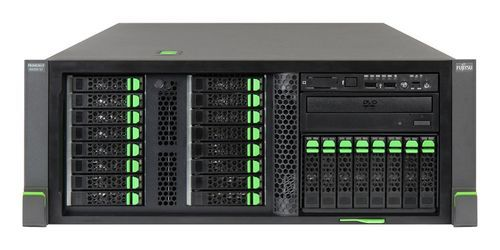ibm-server: (19, 18, 485, 231)
